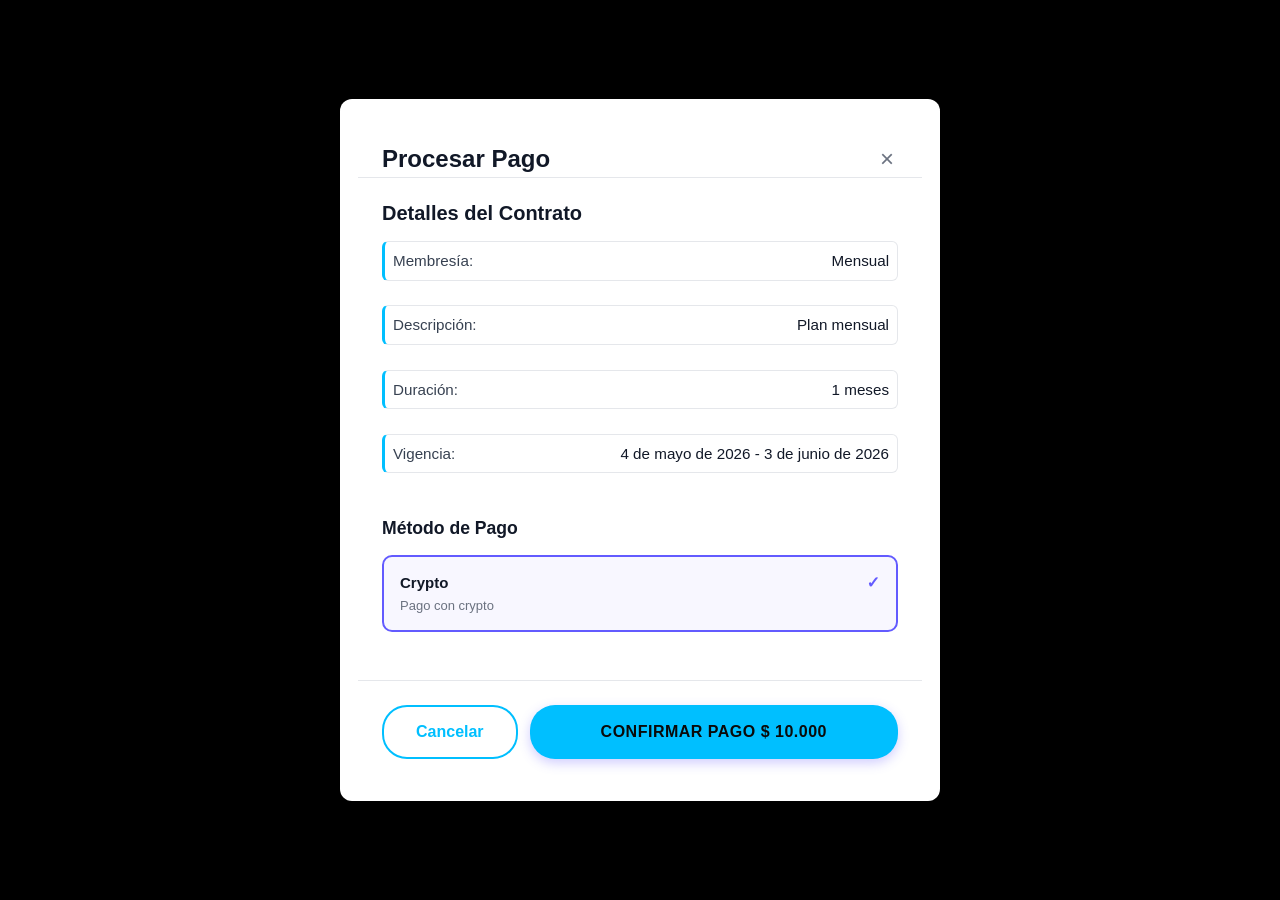
PagoModal › muestra error cuando el metodo seleccionado no esta soportado
The width and height of the screenshot is (1280, 900).
Expected: the text "Crypto" is shown, [400,574,448,591]
Click the button "Confirmar Pago $ 10.000" at (714, 732), box [530,705,898,759]
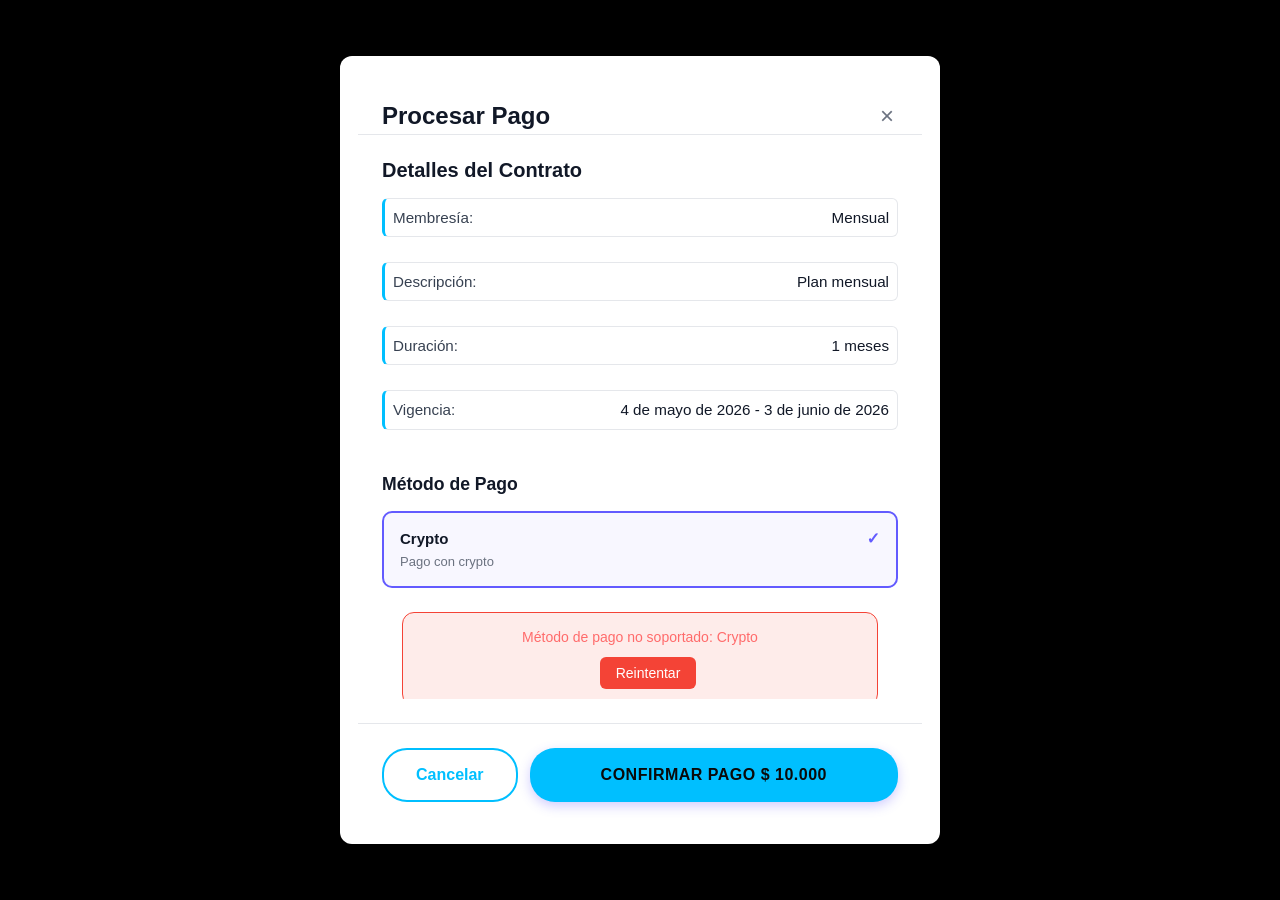
Result: the text "Método de pago no soportado: Crypto" is shown at [522,629,758,645]
